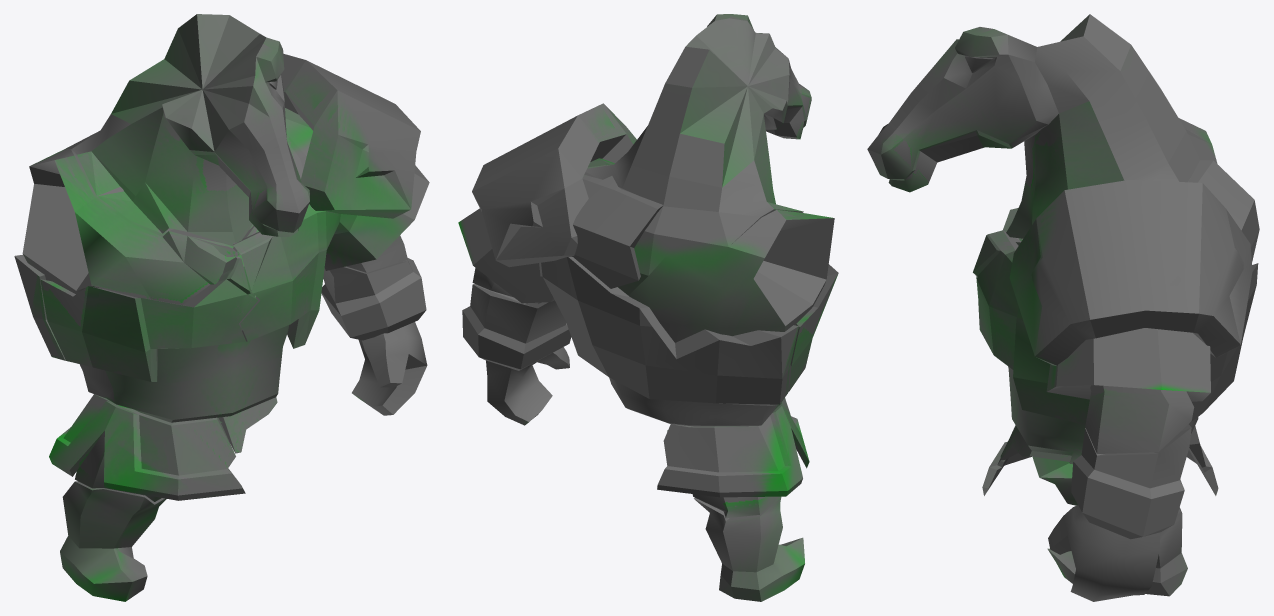
The model's file is SubDecoration_7.fbx.
3 renders of one model, left to right at view 1: azimuth 30°, elevation 25°; view 2: azimuth 150°, elevation 25°; view 3: azimuth 270°, elevation 25°, orthographic. The views are drawn at different scales.
Parts seen in each view (by area): view 1: terrain_mound_101_30_LOD0; view 2: terrain_mound_101_30_LOD0; view 3: terrain_mound_101_30_LOD0.
Part boxes in pixels (box(x1,y1,x2,y2)): terrain_mound_101_30_LOD0: box(14, 14, 429, 601); terrain_mound_101_30_LOD0: box(458, 14, 838, 601); terrain_mound_101_30_LOD0: box(867, 14, 1259, 601).
Bounding box in the file's own units: 157 × 221 × 129.
1 material, 1 textured.
